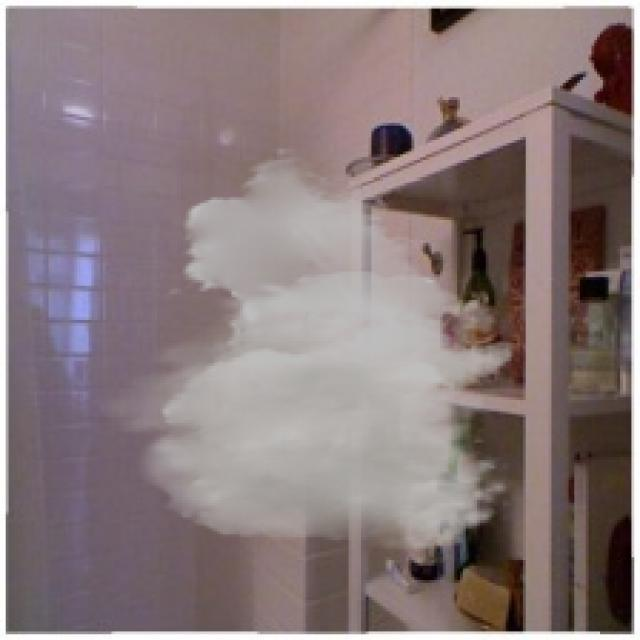Smoke: (91, 146, 518, 552)
